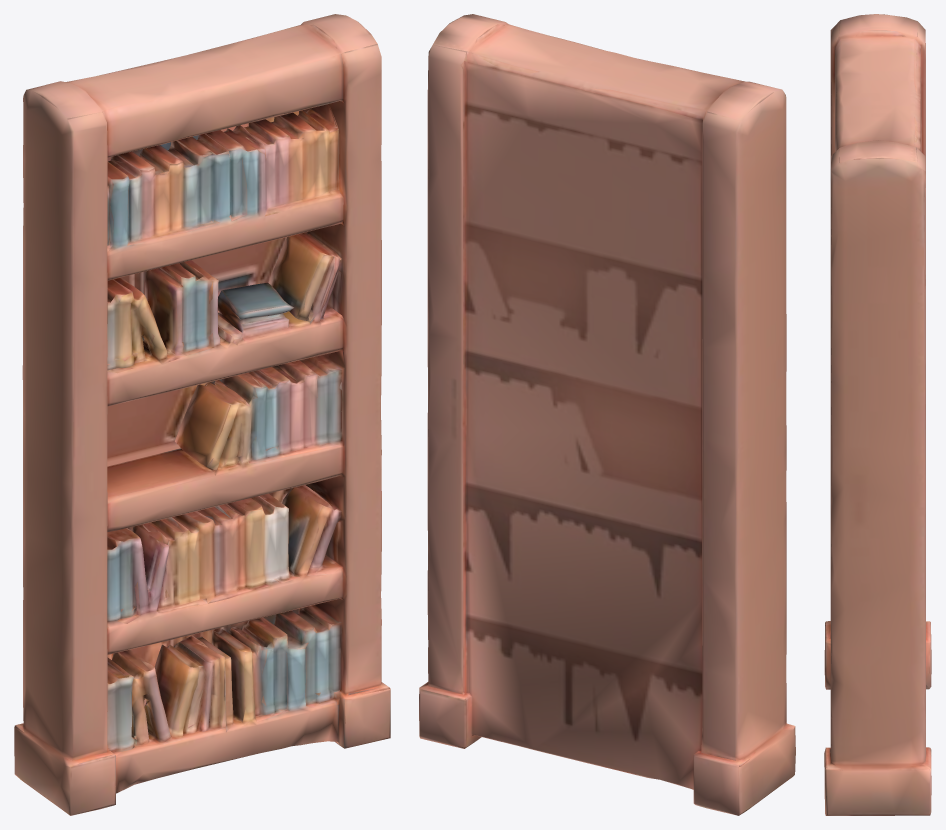
Rendered from Bookshelf.glb.
3 renders of one model, left to right at view 1: azimuth 30°, elevation 25°; view 2: azimuth 150°, elevation 25°; view 3: azimuth 270°, elevation 25°, orthographic. The views are drawn at different scales.
Parts seen in each view (by area): view 1: Mesh1.0; view 2: Mesh1.0; view 3: Mesh1.0.
Boxes of the visible parts, box(x1,y1,x2,y2) form: Mesh1.0: box(14, 14, 390, 815); Mesh1.0: box(419, 14, 795, 815); Mesh1.0: box(824, 14, 931, 815).
Size of the model in its own units: 0.9718 by 2.01 by 0.2965.
1 material, 1 textured.
